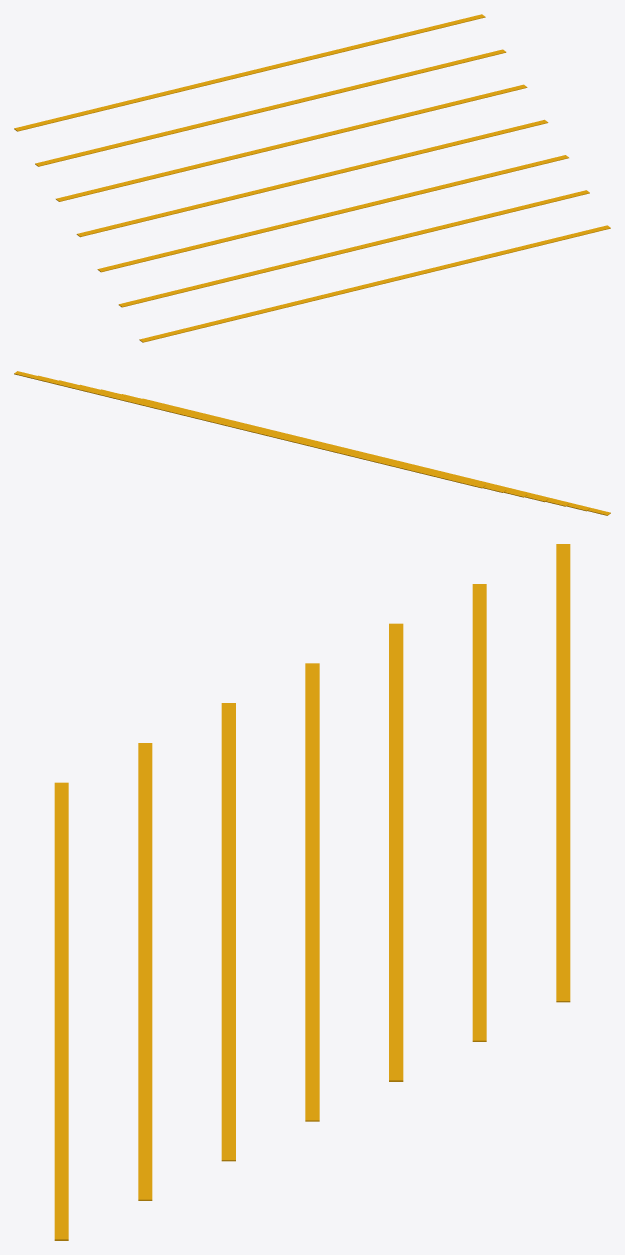
The model's file is gteki_ik_stair_n7_r171_t326_w4230_nosing.glb.
The picture shows the model from 3 angles, top to bottom: view 1: azimuth 30°, elevation 25°; view 2: azimuth 150°, elevation 25°; view 3: azimuth 270°, elevation 25°; orthographic projection. The views are drawn at different scales.
Visible parts, largest first — view 1: VIS_body; view 2: VIS_body; view 3: VIS_body.
Boxes of the visible parts, x1,y1,x2,y2 form: VIS_body: (14, 14, 610, 342); VIS_body: (14, 371, 610, 515); VIS_body: (54, 544, 570, 1240).
Bounding box in the file's own units: 4.21 × 1.03 × 2.01.
1 material, 1 textured.
